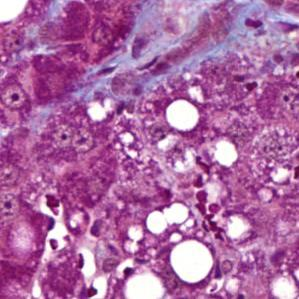steatosis: (170, 239, 215, 284), (164, 98, 203, 130)
